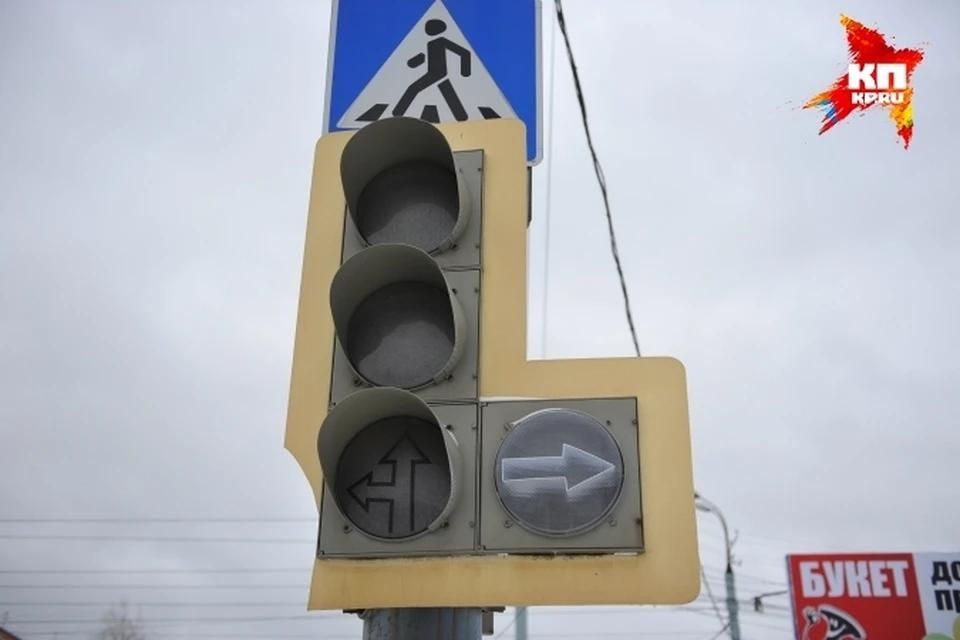obstructed_road_sign: (323, 0, 539, 164)
off traffic light: (320, 114, 646, 559)
